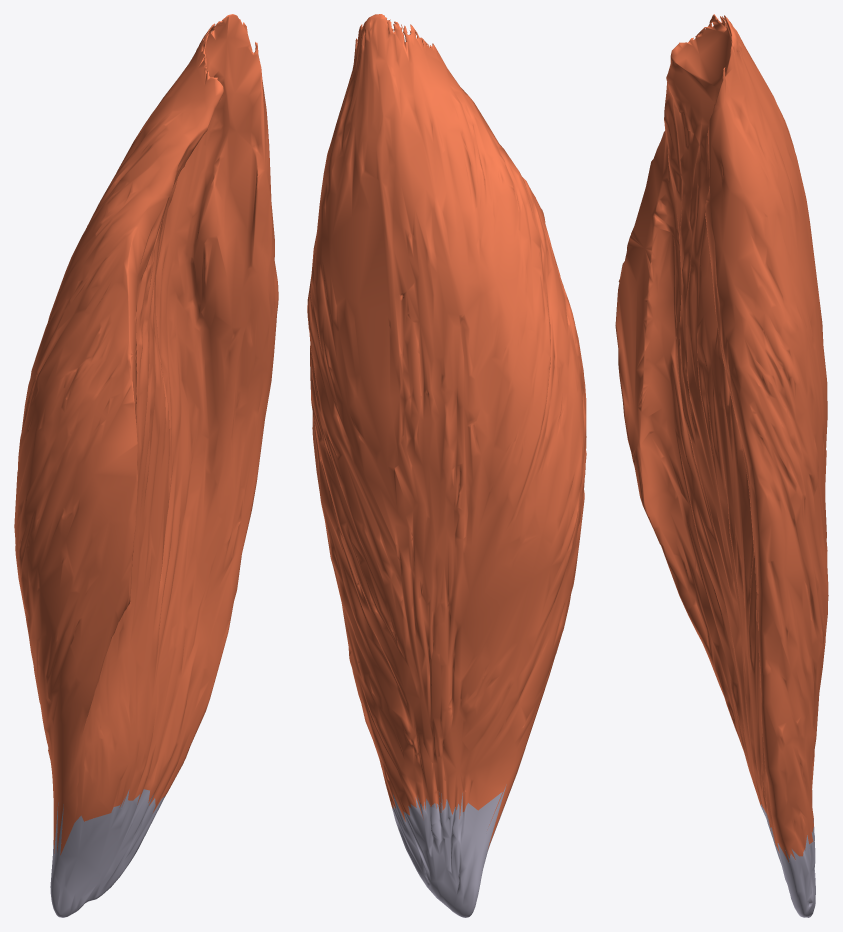
Rendered from Soleus_left.glb.
3 renders of one model, left to right at view 1: azimuth 30°, elevation 25°; view 2: azimuth 150°, elevation 25°; view 3: azimuth 270°, elevation 25°, orthographic. The views are drawn at different scales.
Parts seen in each view (by area): view 1: Soleus_muscle.l_Generated_Mesh_From_X3D.212; view 2: Soleus_muscle.l_Generated_Mesh_From_X3D.212; view 3: Soleus_muscle.l_Generated_Mesh_From_X3D.212.
Part boxes in pixels (x1=…): Soleus_muscle.l_Generated_Mesh_From_X3D.212: x1=14, y1=14, x2=278, y2=917; Soleus_muscle.l_Generated_Mesh_From_X3D.212: x1=307, y1=14, x2=586, y2=917; Soleus_muscle.l_Generated_Mesh_From_X3D.212: x1=615, y1=14, x2=828, y2=917.
Bounding box in the file's own units: 0.0852 × 0.2757 × 0.0552.
